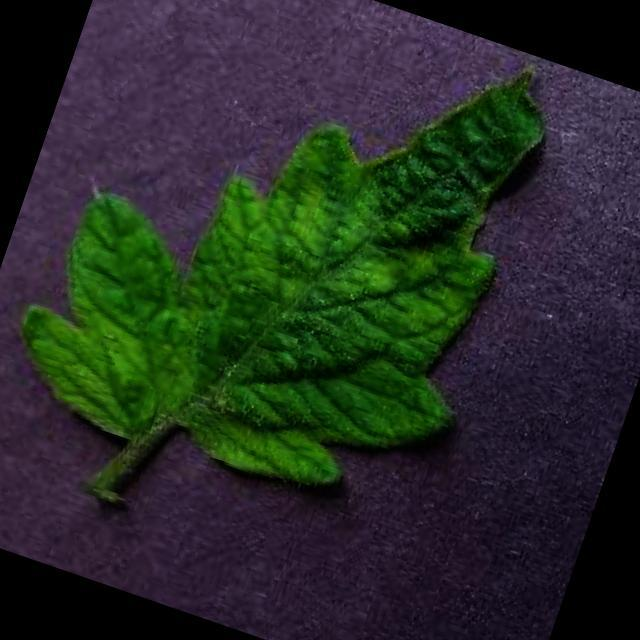Tomato mosaic virus leaf: (0, 0, 571, 542)
